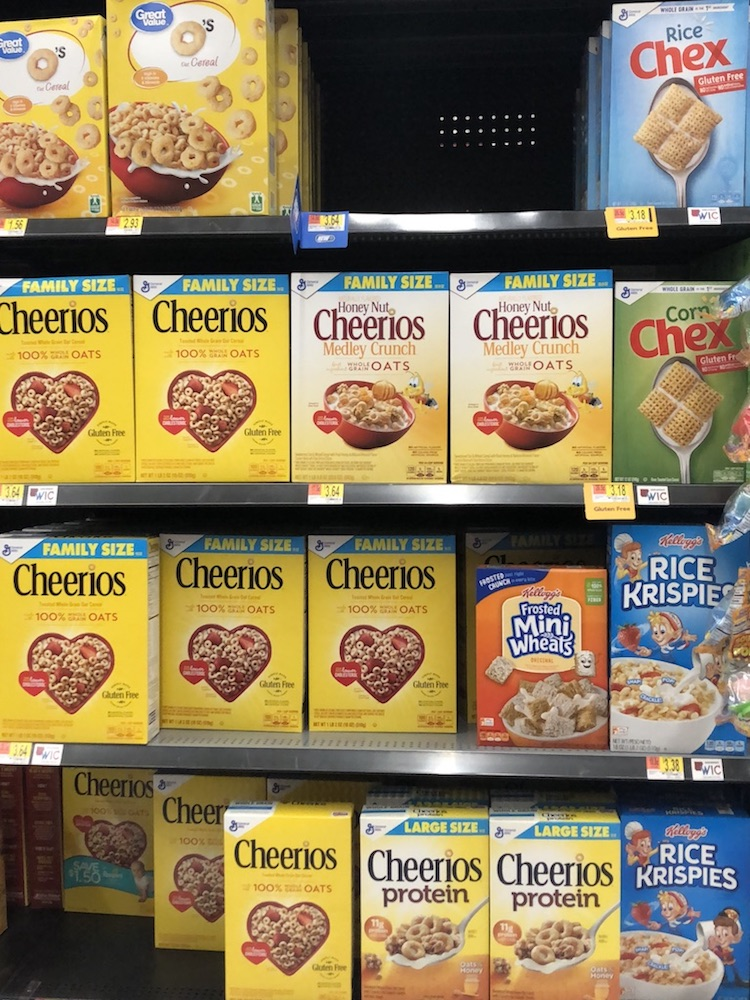Frosted Mini Original -9295869: (473, 572, 611, 755)
